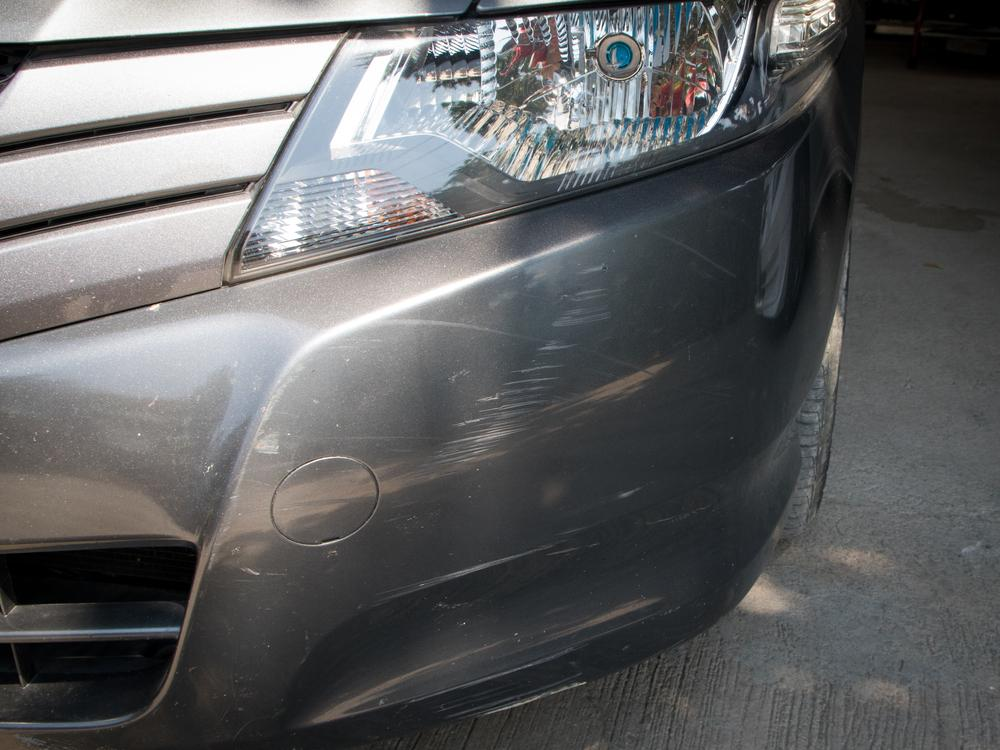scratch: (432, 261, 617, 469), (416, 651, 594, 720)
